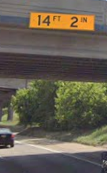1: (35, 13, 42, 27)
2: (68, 15, 80, 29)
4: (41, 12, 51, 29)
overheadsign: (27, 10, 95, 32)
